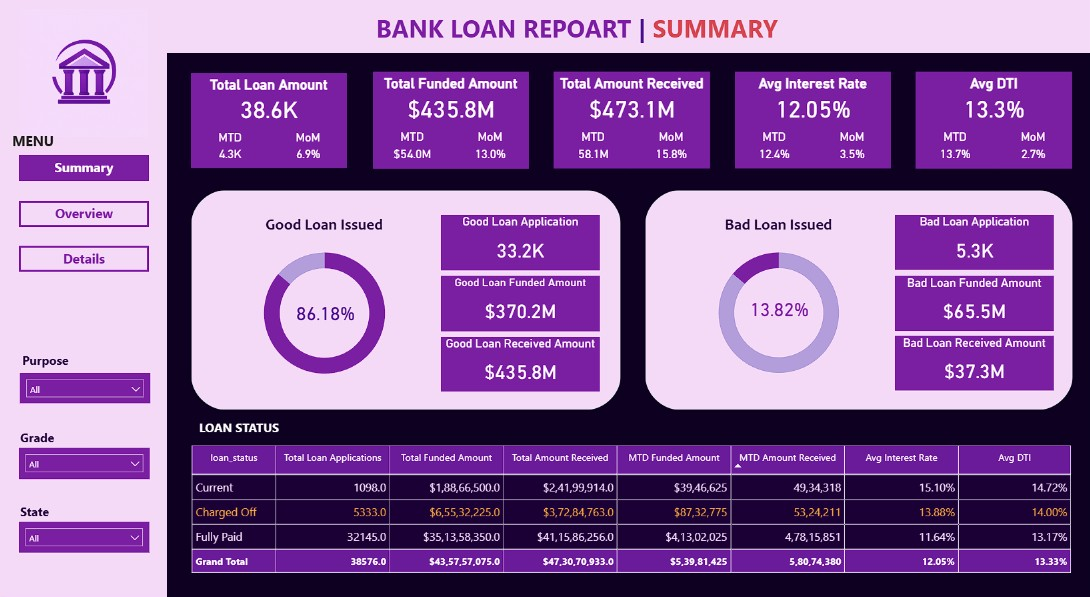

This screenshot's page, from the dashboard's own definition file:
{"tool":"powerbi","page":{"name":"Summary","canvas":[1680,920],"ordinal":0},"visuals":[{"type":"group","id":"g1","title":"Summary Page","box":[15,0,1665,920],"z":0},{"type":"shape","title":"Background","box":[257.5,82.5,1422.5,837.5],"z":0,"group":"g28"},{"type":"shape","box":[1132,111,240,150],"z":0,"group":"g25"},{"type":"shape","box":[1410,111,240,150],"z":0,"group":"g26"},{"type":"group","id":"g2","title":"Funded Amount","box":[575,111.2,240,150],"z":0,"group":"g22"},{"type":"shape","box":[575,111.2,240,150],"z":0,"group":"g2"},{"type":"card","title":"Total Funded Amount","fields":{"Values":["financial_loan_bank.Total Funded Amount"]},"box":[575.1,111.2,240,75],"z":0,"group":"g10"},{"type":"shape","box":[853.8,111.2,240,150],"z":0,"group":"g11"},{"type":"card","title":"Total Amount Received","fields":{"Values":["financial_loan_bank.Total Amount Received"]},"box":[853.8,111.2,239.9,75.3],"z":0,"group":"g12"},{"type":"card","title":"Avg Interest Rate","fields":{"Values":["financial_loan_bank.Avg Interest Rate"]},"box":[1132.4,111.4,240,75.3],"z":0,"group":"g13"},{"type":"card","title":"Avg DTI","fields":{"Values":["financial_loan_bank.Avg DTI"]},"box":[1410,111.7,240,75],"z":0,"group":"g14"},{"type":"shape","box":[295,112.5,240,148.2],"z":0,"group":"g23"},{"type":"card","title":"Total Loan Amount","fields":{"Values":["financial_loan_bank.Total Loan Applications"]},"box":[295,112.5,240,74.5],"z":0,"group":"g15"},{"type":"textbox","title":"Menu ","box":[15,199,103.7,42.7],"z":0,"group":"g27"},{"type":"actionButton","title":"Summary Button","box":[30,240,200,40],"z":0,"group":"g16"},{"type":"group","id":"g3","title":"Good loan","box":[292.2,289,666,344.7],"z":0,"group":"g17"},{"type":"group","id":"g4","title":"Group 6","box":[292.2,289,666,344.7],"z":0,"group":"g3"},{"type":"shape","box":[292.2,289,666,344.7],"z":0,"group":"g4"},{"type":"shape","box":[988,289,665,345],"z":0,"group":"g18"},{"type":"group","id":"g5","title":"Group 4","box":[1018,330,603,271.1],"z":0,"group":"g19"},{"type":"group","id":"g6","title":"Group 4","box":[320,330.5,603.4,271.9],"z":0,"group":"g20"},{"type":"card","title":"Bad Loan Funded Amount","fields":{"Values":["financial_loan_bank.Bad Loan Funded Amount"]},"box":[1376.3,423.2,244.7,84.7],"z":0,"group":"g5"},{"type":"card","title":"Good Loan Funded Amount","fields":{"Values":["financial_loan_bank.Good Loan Funded Amount"]},"box":[679.4,424,244,85],"z":0,"group":"g6"},{"type":"slicer","fields":{"Values":["financial_loan_bank.purpose"]},"box":[31.5,575,200.8,46.9],"z":0,"group":"g24"},{"type":"group","id":"g7","title":"Loan status table","box":[290,638.6,1366.9,270],"z":0,"group":"g9"},{"type":"shape","title":"Background","box":[294.1,638.6,1357.1,270],"z":0,"group":"g7"},{"type":"textbox","box":[30.4,661,72.2,38.5],"z":0,"group":"g21"},{"type":"group","id":"g8","title":"State","box":[30,776,201,77],"z":0,"group":"g1"},{"type":"textbox","box":[30,776,70.3,38.2],"z":0,"group":"g8"},{"type":"group","id":"g9","title":"Chart and KPI and table","box":[290,111,1366.9,797.6],"z":1000,"group":"g28"},{"type":"group","id":"g10","title":"Group 4","box":[575,111.2,240.1,150.5],"z":1000,"group":"g2"},{"type":"group","id":"g11","title":"Amount Received","box":[853.8,111.2,240,150],"z":1000,"group":"g22"},{"type":"group","id":"g12","title":"Group 7","box":[853.8,111.2,240,150],"z":1000,"group":"g11"},{"type":"group","id":"g13","title":"Group 7","box":[1132.4,111.4,240,150],"z":1000,"group":"g25"},{"type":"group","id":"g14","title":"Group 3","box":[1410,111.7,240,150],"z":1000,"group":"g26"},{"type":"group","id":"g15","title":"Group 1","box":[295,112.5,240,148.2],"z":1000,"group":"g23"},{"type":"card","title":"MTD","fields":{"Values":["financial_loan_bank.MTD Amount Received"]},"box":[854,186,120.2,75.2],"z":1000,"group":"g12"},{"type":"card","title":"MTD","fields":{"Values":["financial_loan_bank.MTD Avg Interest Rate"]},"box":[1132.6,186.2,120.2,75.2],"z":1000,"group":"g13"},{"type":"card","title":"MTD","fields":{"Values":["financial_loan_bank.MTD Funded Amount"]},"box":[575,186.4,120.3,75.2],"z":1000,"group":"g10"},{"type":"card","title":"MTD","fields":{"Values":["financial_loan_bank.MTD Avg DTI"]},"box":[1410.2,186.5,120,75.2],"z":1000,"group":"g14"},{"type":"card","title":"MTD","fields":{"Values":["financial_loan_bank.MTD Loan Applications"]},"box":[295,187,120,73.8],"z":1000,"group":"g15"},{"type":"group","id":"g16","title":"Buttons","box":[30,240,200,180],"z":1000,"group":"g27"},{"type":"group","id":"g17","title":"Good and bad pie chart","box":[292.2,289,1360.8,345],"z":1000,"group":"g9"},{"type":"group","id":"g18","title":"Bad loan ","box":[988,289,665,345],"z":1000,"group":"g17"},{"type":"actionButton","title":"Overview Button","box":[30,310,200,40],"z":1000,"group":"g16"},{"type":"group","id":"g19","title":"Group 5","box":[1018,330,603,271.1],"z":1000,"group":"g18"},{"type":"card","title":"Bad Loan Application","fields":{"Values":["financial_loan_bank.Bad Loan Applications"]},"box":[1376.2,330,244.7,84.7],"z":1000,"group":"g5"},{"type":"group","id":"g20","title":"Group 5","box":[320,330.5,603.4,271.9],"z":1000,"group":"g4"},{"type":"card","title":"Good Loan Application","fields":{"Values":["financial_loan_bank.Good Loan Applications"]},"box":[679.4,330.5,244,85],"z":1000,"group":"g6"},{"type":"card","fields":{"Values":["financial_loan_bank.Bad Loan %"]},"box":[1136,453.7,124,41.2],"z":1000,"group":"g19"},{"type":"card","fields":{"Values":["financial_loan_bank.Good Loan %"]},"box":[440,460,124.3,40],"z":1000,"group":"g20"},{"type":"textbox","box":[30,542.3,90.2,33.4],"z":1000,"group":"g24"},{"type":"textbox","title":"Title of table","box":[299.3,640.8,155.5,42.7],"z":1000,"group":"g7"},{"type":"group","id":"g21","title":"Grade","box":[30,661,201,77],"z":1000,"group":"g1"},{"type":"slicer","fields":{"Values":["financial_loan_bank.grade"]},"box":[30,690,201,48],"z":1000,"group":"g21"},{"type":"slicer","fields":{"Values":["financial_loan_bank.address_state"]},"box":[30.2,805.5,200.8,47.5],"z":1000,"group":"g8"},{"type":"group","id":"g22","title":"5 KPI","box":[295,111,1355,151.7],"z":2000,"group":"g9"},{"type":"group","id":"g23","title":"Loan Amount","box":[295,112.5,240,150],"z":2000,"group":"g22"},{"type":"card","title":"MoM","fields":{"Values":["financial_loan_bank.MoM Amount Received"]},"box":[973.6,186,120.2,75.2],"z":2000,"group":"g12"},{"type":"card","title":"MoM","fields":{"Values":["financial_loan_bank.MoM Avg Interest Rate"]},"box":[1252.2,186.2,120.2,75.2],"z":2000,"group":"g13"},{"type":"card","title":"MoM","fields":{"Values":["financial_loan_bank.MoM Funded Amount"]},"box":[694.7,186.4,120.3,75.2],"z":2000,"group":"g10"},{"type":"card","title":"MoM","fields":{"Values":["financial_loan_bank.MoM Avg DTI"]},"box":[1529.7,186.5,120,75.2],"z":2000,"group":"g14"},{"type":"card","title":"MoM","fields":{"Values":["financial_loan_bank.MoM Loan Applications"]},"box":[415,187,120,73.8],"z":2000,"group":"g15"},{"type":"donutChart","title":"Bad Loan Issued","fields":{"Y":["financial_loan_bank.Total Loan Applications"],"Category":["financial_loan_bank.Good v Bad Loan"]},"box":[1018,330.1,359,271],"z":2000,"group":"g5"},{"type":"donutChart","title":"Good Loan Issued","fields":{"Category":["financial_loan_bank.Good vs Bad Loan"],"Y":["financial_loan_bank.Total Loan Applications"]},"box":[320,330.6,360.2,271.9],"z":2000,"group":"g6"},{"type":"actionButton","title":"Details Button","box":[30,380,200,40],"z":2000,"group":"g16"},{"type":"group","id":"g24","title":"Purpose","box":[30,542.3,202.3,79.6],"z":2000,"group":"g1"},{"type":"tableEx","fields":{"Values":["financial_loan_bank.loan_status","financial_loan_bank.Total Loan Applications","financial_loan_bank.Total Funded Amount","financial_loan_bank.Total Amount Received","financial_loan_bank.MTD Funded Amount","financial_loan_bank.MTD Amount Received","financial_loan_bank.Avg Interest Rate","financial_loan_bank.Avg DTI"]},"box":[290,680,1366.9,219.4],"z":2000,"group":"g7"},{"type":"textbox","title":"Title of page","box":[574.6,13.6,628.8,66.1],"z":3000,"group":"g1"},{"type":"group","id":"g25","title":"Avg Interest","box":[1132,111,240,150],"z":3000,"group":"g22"},{"type":"card","title":"Bad Loan Received Amount","fields":{"Values":["financial_loan_bank.Bad Loan Received Amount"]},"box":[1376,516.8,244.7,84],"z":3000,"group":"g5"},{"type":"card","title":"Good Loan Received Amount","fields":{"Values":["financial_loan_bank.Good Loan Received Amount"]},"box":[679,517.9,244,84],"z":3000,"group":"g6"},{"type":"image","title":"Logo","box":[32.5,0,197.1,227.6],"z":4000,"group":"g1"},{"type":"group","id":"g26","title":"Avg DTI","box":[1410,111,240,151.7],"z":4000,"group":"g22"},{"type":"group","id":"g27","title":"Button and title of button","box":[15,199,215,221],"z":5000,"group":"g1"},{"type":"group","id":"g28","title":"Background of KPIs, pie chart of good vs bad loan issued, Loan status table","box":[257.5,82.5,1422.5,837.5],"z":6000,"group":"g1"}]}

Visuals, with their boxes in screenshot pixels (x1, y1, x2, y2), scaled from the page's 1680x920 canvas onto the 1090x597 screenshot:
"Summary Page" group: box(10, 0, 1089, 596)
"Background" shape: box(167, 54, 1089, 596)
shape: box(734, 72, 890, 169)
shape: box(915, 72, 1071, 169)
"Funded Amount" group: box(373, 72, 529, 169)
shape: box(373, 72, 529, 169)
"Total Funded Amount" card: box(373, 72, 529, 121)
shape: box(554, 72, 710, 169)
"Total Amount Received" card: box(554, 72, 710, 121)
"Avg Interest Rate" card: box(735, 72, 890, 121)
"Avg DTI" card: box(915, 72, 1071, 121)
shape: box(191, 73, 347, 169)
"Total Loan Amount" card: box(191, 73, 347, 121)
"Menu " textbox: box(10, 129, 77, 157)
"Summary Button" actionButton: box(19, 156, 149, 182)
"Good loan" group: box(190, 188, 622, 411)
"Group 6" group: box(190, 188, 622, 411)
shape: box(190, 188, 622, 411)
shape: box(641, 188, 1072, 411)
"Group 4" group: box(660, 214, 1052, 390)
"Group 4" group: box(208, 214, 599, 391)
"Bad Loan Funded Amount" card: box(893, 275, 1052, 330)
"Good Loan Funded Amount" card: box(441, 275, 599, 330)
slicer - financial_loan_bank.purpose: box(20, 373, 151, 404)
"Loan status table" group: box(188, 414, 1075, 590)
"Background" shape: box(191, 414, 1071, 590)
textbox: box(20, 429, 67, 454)
"State" group: box(19, 504, 150, 554)
textbox: box(19, 504, 65, 528)
"Chart and KPI and table" group: box(188, 72, 1075, 590)
"Group 4" group: box(373, 72, 529, 170)
"Amount Received" group: box(554, 72, 710, 169)
"Group 7" group: box(554, 72, 710, 169)
"Group 7" group: box(735, 72, 890, 170)
"Group 3" group: box(915, 72, 1071, 170)
"Group 1" group: box(191, 73, 347, 169)
"MTD" card: box(554, 121, 632, 169)
"MTD" card: box(735, 121, 813, 170)
"MTD" card: box(373, 121, 451, 170)
"MTD" card: box(915, 121, 993, 170)
"MTD" card: box(191, 121, 269, 169)
"Buttons" group: box(19, 156, 149, 273)
"Good and bad pie chart" group: box(190, 188, 1072, 411)
"Bad loan " group: box(641, 188, 1072, 411)
"Overview Button" actionButton: box(19, 201, 149, 227)
"Group 5" group: box(660, 214, 1052, 390)
"Bad Loan Application" card: box(893, 214, 1052, 269)
"Group 5" group: box(208, 214, 599, 391)
"Good Loan Application" card: box(441, 214, 599, 270)
card - financial_loan_bank.Bad Loan %: box(737, 294, 818, 321)
card - financial_loan_bank.Good Loan %: box(285, 298, 366, 324)
textbox: box(19, 352, 78, 374)
"Title of table" textbox: box(194, 416, 295, 444)
"Grade" group: box(19, 429, 150, 479)
slicer - financial_loan_bank.grade: box(19, 448, 150, 479)
slicer - financial_loan_bank.address_state: box(20, 523, 150, 554)
"5 KPI" group: box(191, 72, 1071, 170)
"Loan Amount" group: box(191, 73, 347, 170)
"MoM" card: box(632, 121, 710, 169)
"MoM" card: box(812, 121, 890, 170)
"MoM" card: box(451, 121, 529, 170)
"MoM" card: box(992, 121, 1070, 170)
"MoM" card: box(269, 121, 347, 169)
"Bad Loan Issued" donutChart: box(660, 214, 893, 390)
"Good Loan Issued" donutChart: box(208, 215, 441, 391)
"Details Button" actionButton: box(19, 247, 149, 273)
"Purpose" group: box(19, 352, 151, 404)
tableEx - financial_loan_bank.loan_status x financial_loan_bank.Total Loan Applications: box(188, 441, 1075, 584)
"Title of page" textbox: box(373, 9, 781, 52)
"Avg Interest" group: box(734, 72, 890, 169)
"Bad Loan Received Amount" card: box(893, 335, 1052, 390)
"Good Loan Received Amount" card: box(441, 336, 599, 391)
"Logo" image: box(21, 0, 149, 148)
"Avg DTI" group: box(915, 72, 1071, 170)
"Button and title of button" group: box(10, 129, 149, 273)
"Background of KPIs, pie chart of good vs bad loan issued, Loan status table" group: box(167, 54, 1089, 596)
